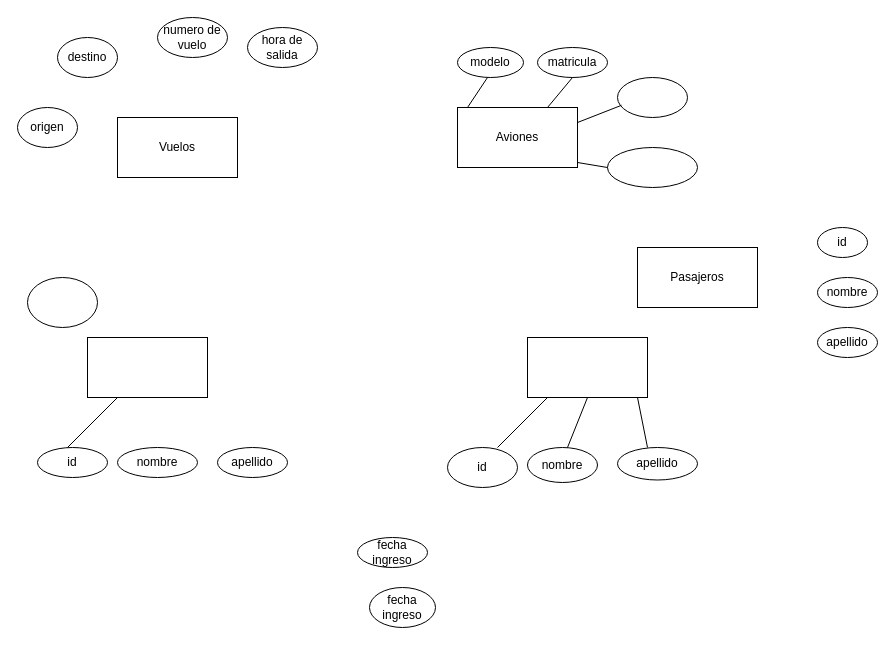
Image size: 895x645. Some labels were removed from this diagram. The centre of each missing label's shape, as x and y in pixels:
"año de produccion" goes at pixel 652 97.
"capacidad" goes at pixel 652 167.
"horas de vuelo" goes at pixel 62 302.
"Miembros de Tripulacion" goes at pixel 587 367.
"Pilotos" goes at pixel 147 367.
